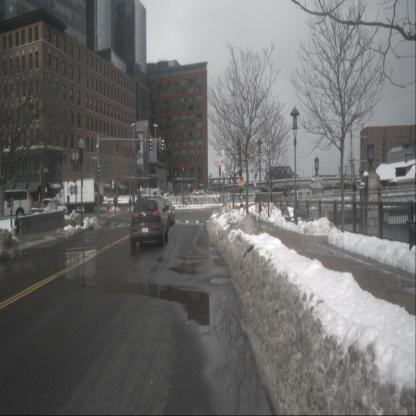human-pedestrian-adult: (352, 179, 358, 205), (114, 195, 118, 214), (128, 196, 132, 212)
vehicle-car: (130, 198, 169, 249), (0, 189, 32, 220), (41, 198, 68, 218), (160, 201, 175, 225), (30, 200, 42, 210)
vehicle-truck: (60, 178, 104, 213)
